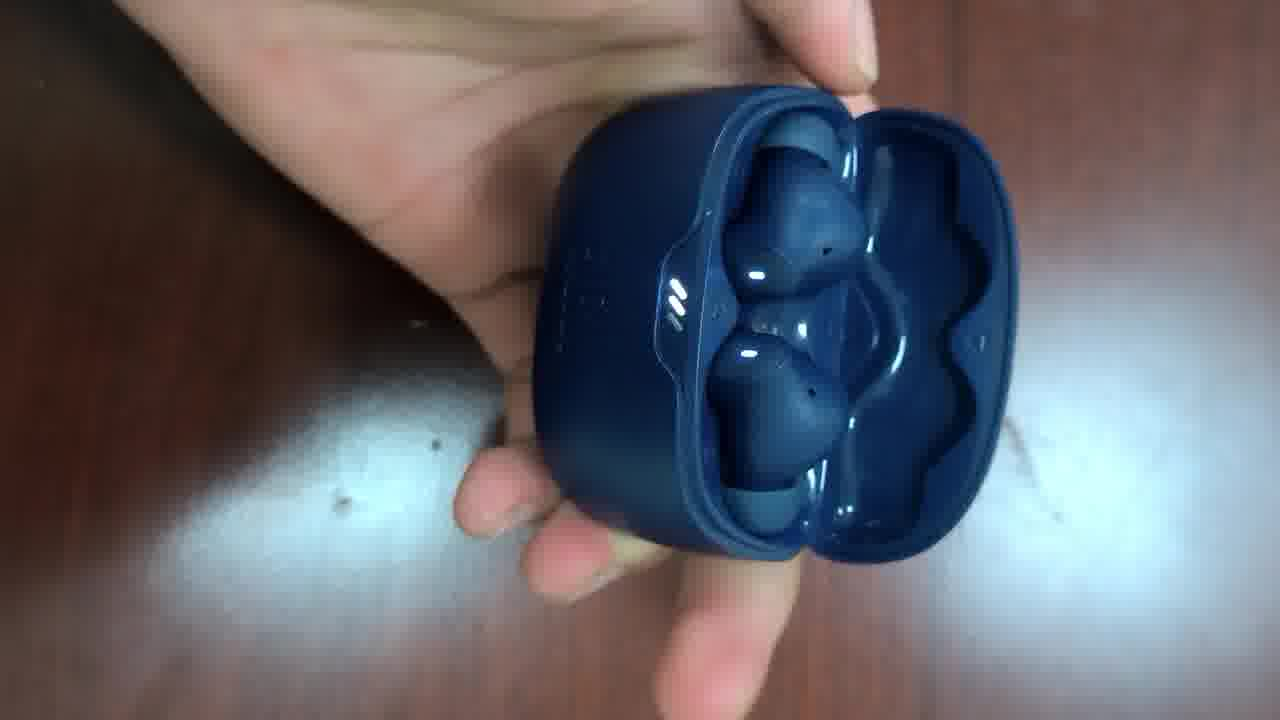Case: (533, 85, 1016, 562)
Earbud: (706, 112, 865, 535), (706, 329, 848, 535), (722, 112, 866, 300), (707, 330, 848, 490)
